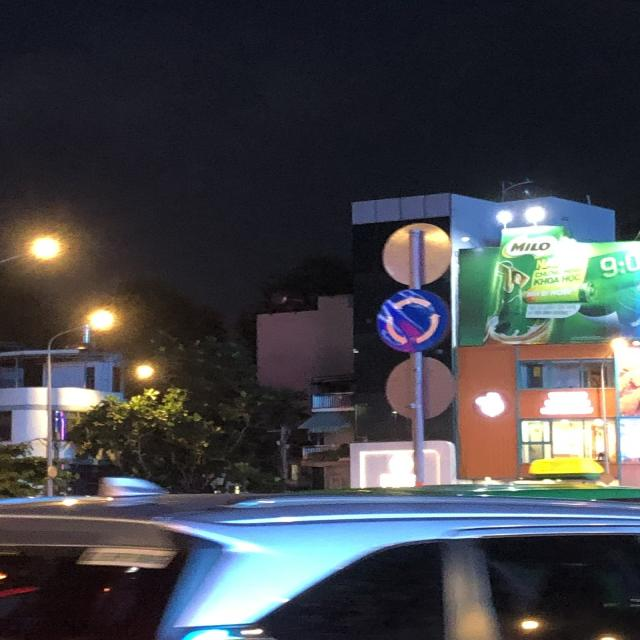Bien bao noi giao nhau chay theo vong xuyen: (369, 284, 460, 356)
